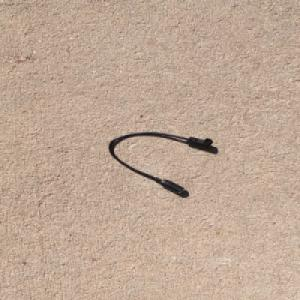Wire: (105, 130, 215, 195)
